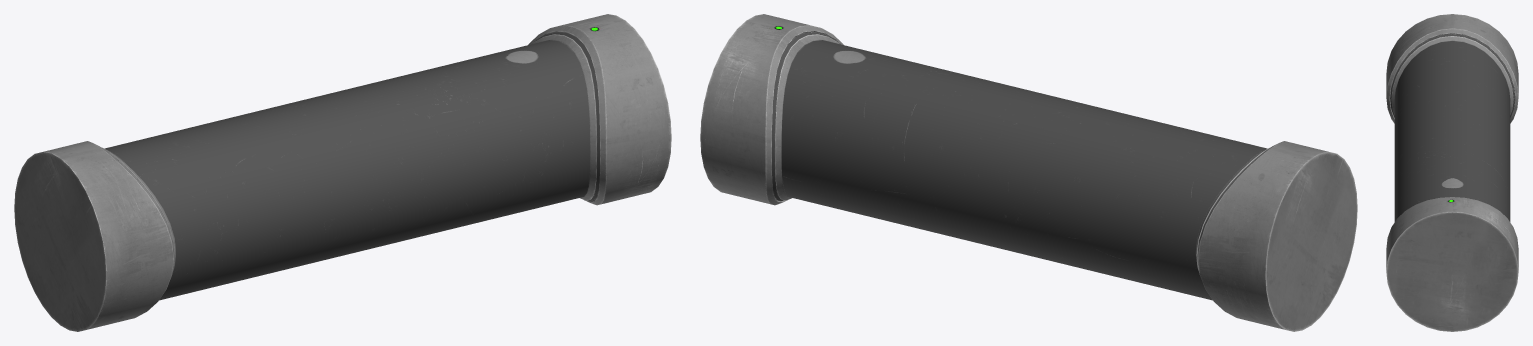
File: grip_5_c_a.glb
The picture shows the model from 3 angles, left to right: view 1: azimuth 30°, elevation 25°; view 2: azimuth 150°, elevation 25°; view 3: azimuth 270°, elevation 25°; orthographic projection. The views are drawn at different scales.
Parts seen in each view (by area): view 1: grip_5_c_a_lod0; view 2: grip_5_c_a_lod0; view 3: grip_5_c_a_lod0.
Part boxes in pixels (box(x1,y1,x2,y2)): grip_5_c_a_lod0: box(14, 14, 671, 331); grip_5_c_a_lod0: box(700, 14, 1357, 331); grip_5_c_a_lod0: box(1386, 14, 1518, 331).
Size of what is drawn, in the model's own units: 0.1054 by 0.0298 by 0.0298.
Materials: 1 (1 with a texture image).
